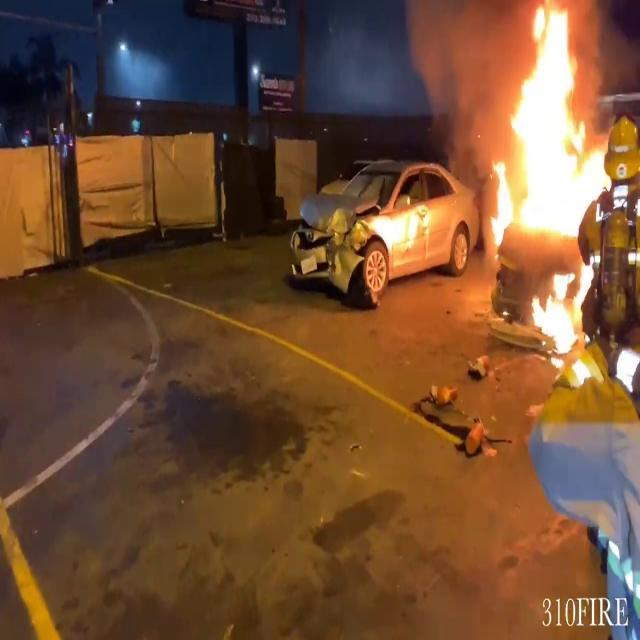Fire: (480, 2, 616, 251), (524, 247, 616, 369)
